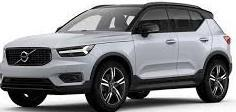SUV: (1, 4, 233, 112)
